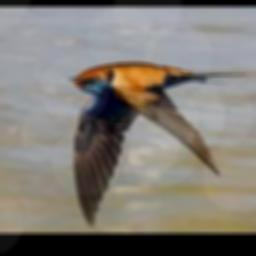Swallow: (67, 63, 246, 228)
